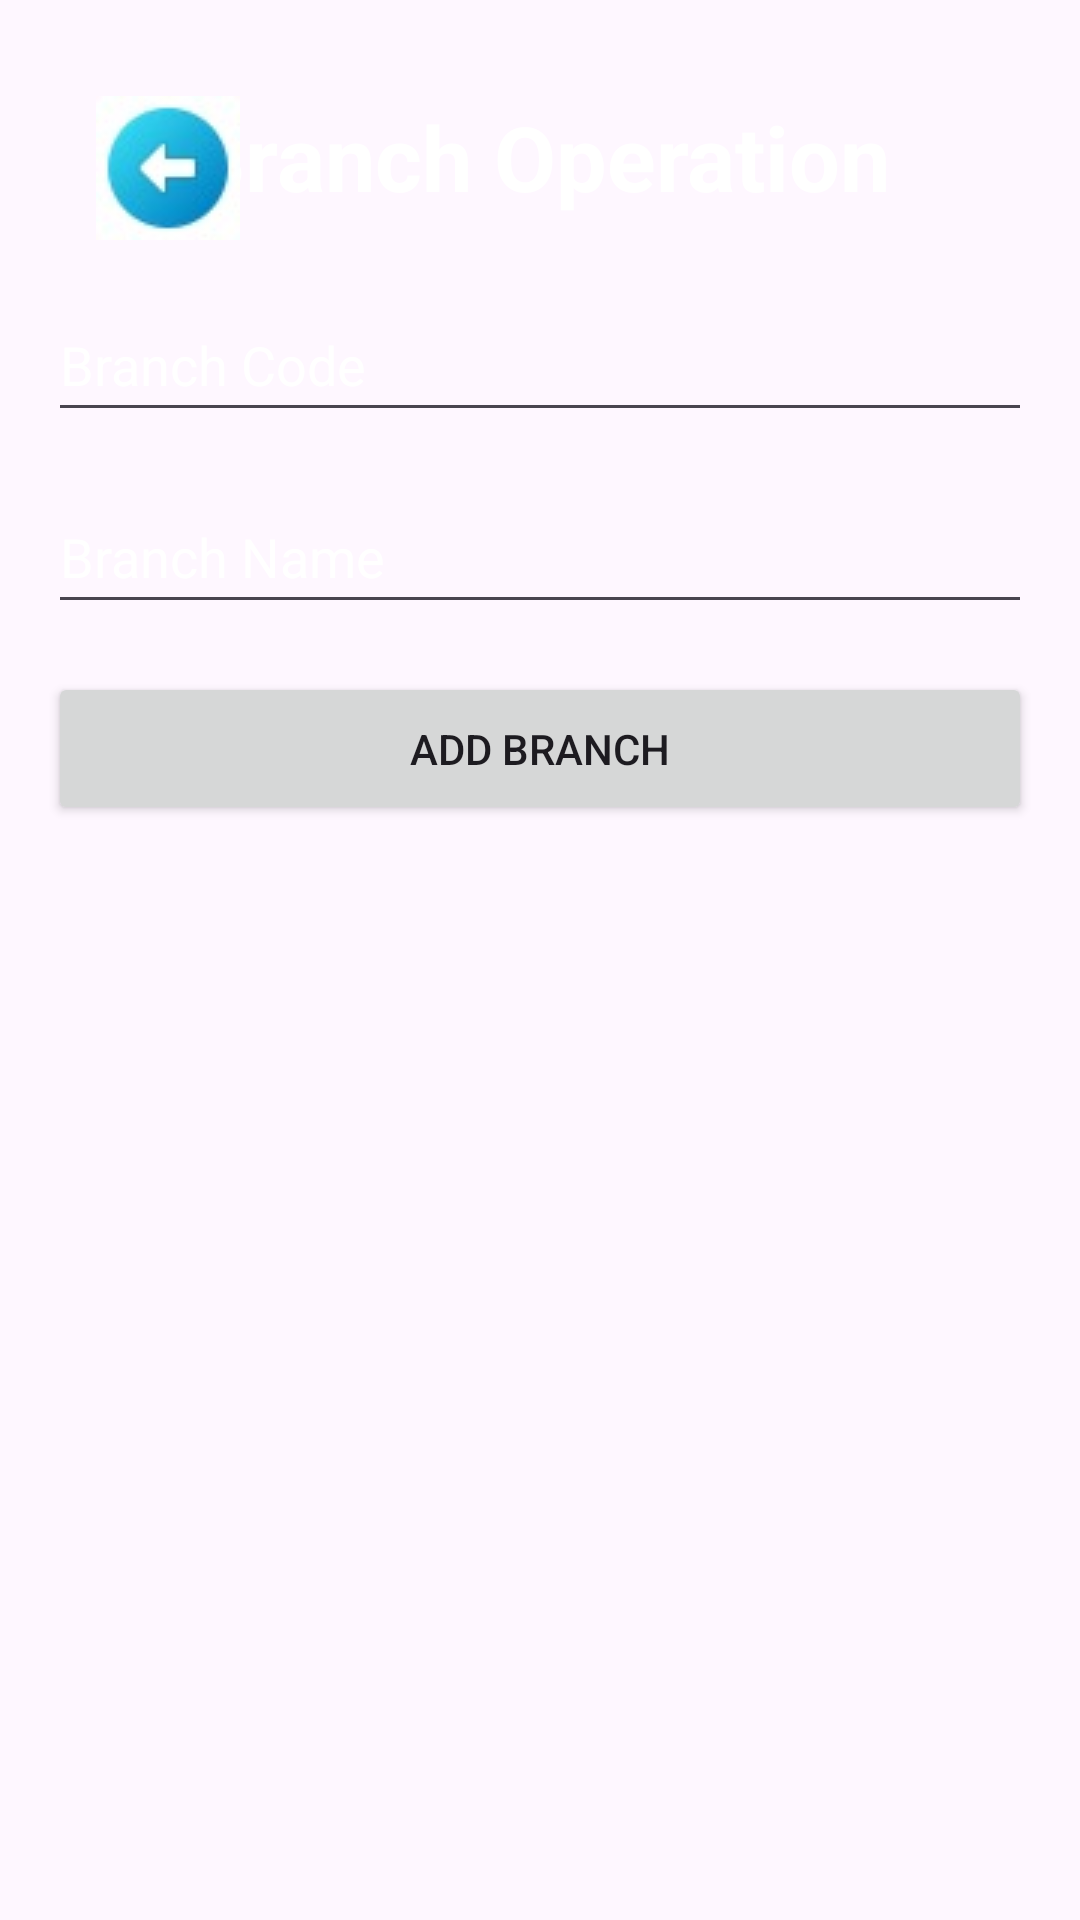

Where to tap for icons on this 1080px x 1920px app screen, as (x,y):
back: (168,168)
